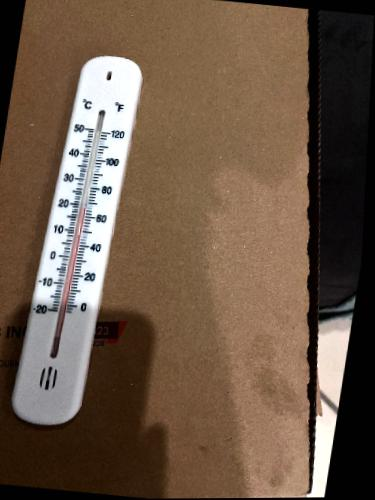thermo: (4, 49, 157, 436)
